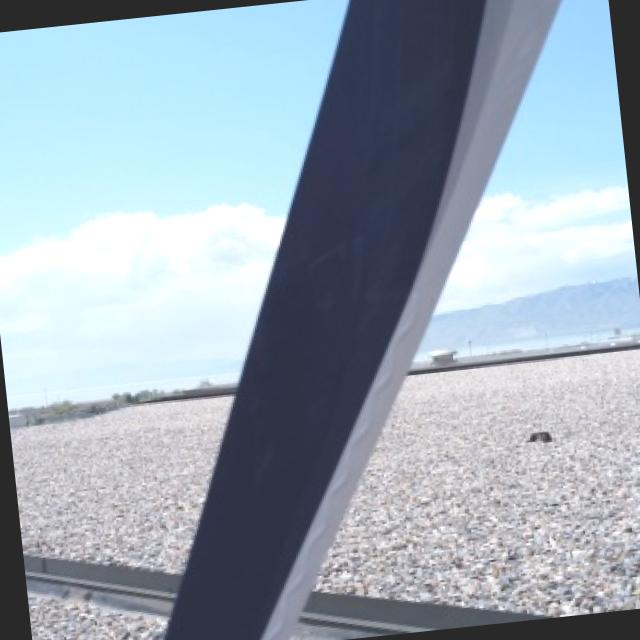healthy: (160, 0, 554, 640)
